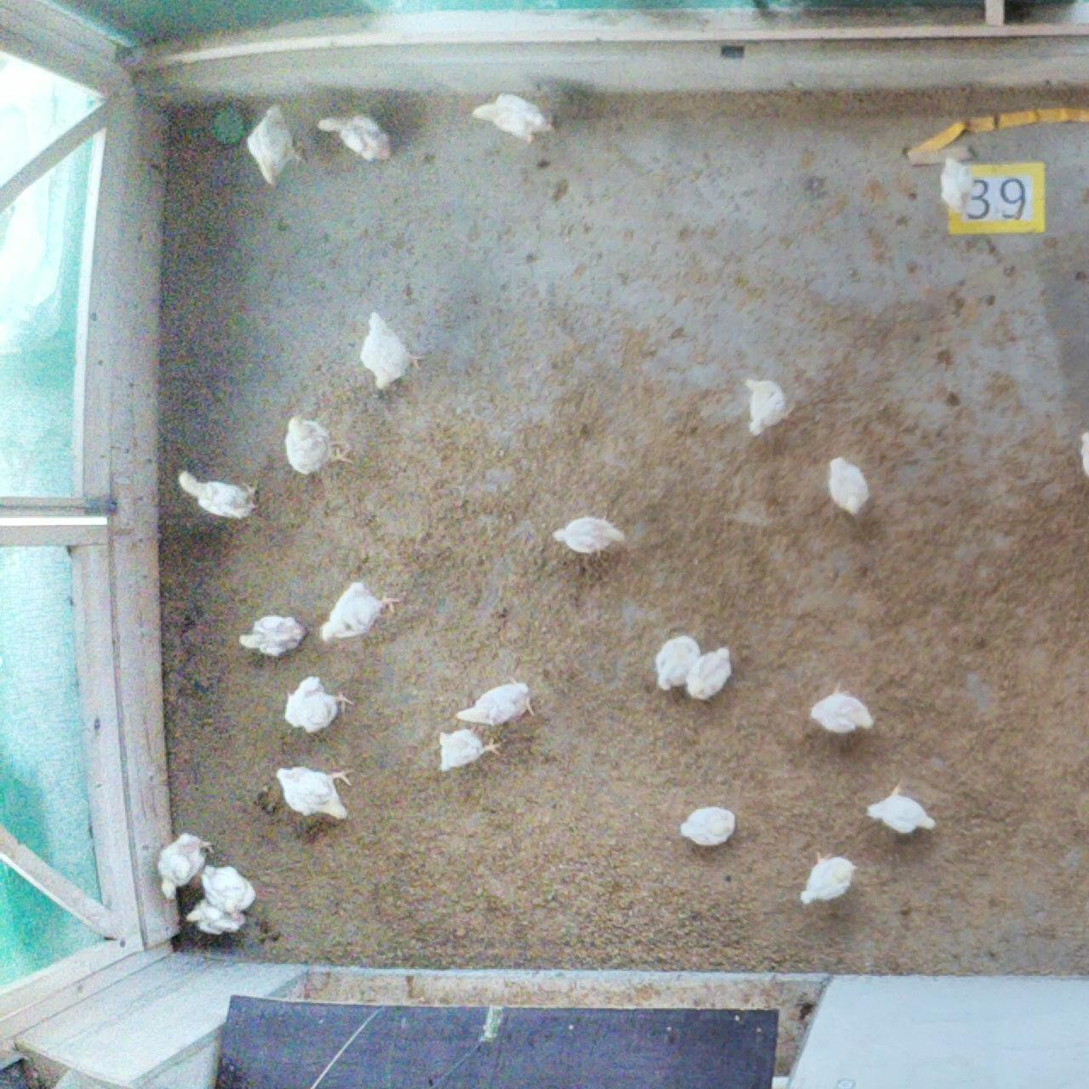chicken: (313, 574, 406, 646), (356, 305, 428, 395), (243, 100, 312, 193), (466, 86, 561, 152), (272, 759, 358, 826), (857, 774, 943, 841), (800, 673, 882, 743), (312, 104, 398, 170), (173, 463, 265, 524), (153, 825, 218, 909), (278, 672, 357, 738), (451, 671, 538, 727), (195, 861, 266, 926), (232, 609, 312, 665), (791, 848, 862, 911), (548, 508, 631, 560), (740, 371, 801, 440), (435, 722, 506, 779), (649, 630, 706, 695), (823, 452, 874, 522), (683, 640, 736, 704), (181, 893, 250, 941), (676, 800, 740, 851), (936, 152, 980, 222)
